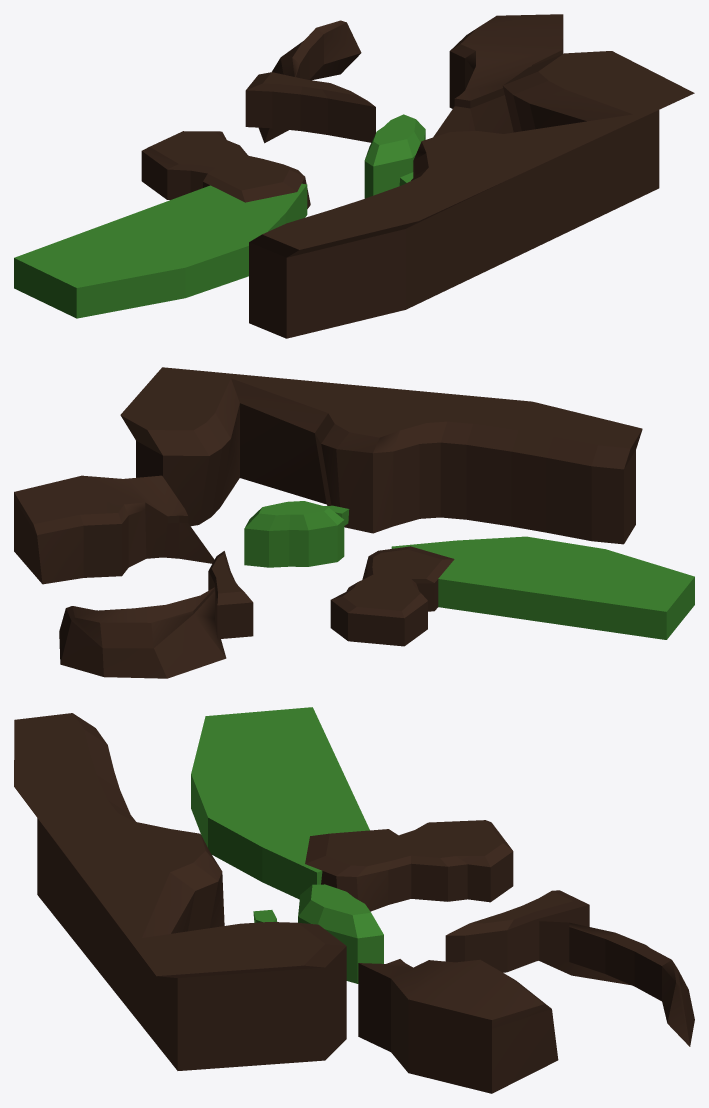
Rendered from Murs.fbx.
3 renders of one model, top to bottom at view 1: azimuth 30°, elevation 25°; view 2: azimuth 150°, elevation 25°; view 3: azimuth 270°, elevation 25°, orthographic. The views are drawn at different scales.
Parts seen in each view (by area): view 1: PolyShape__9_, PolyShape, PolyShape__7_, PolyShape__1_, PolyShape__2_, PolyShape__6_, PolyShape__3_; view 2: PolyShape__9_, PolyShape, PolyShape__7_, PolyShape__6_, PolyShape__1_, PolyShape__3_, PolyShape__2_; view 3: PolyShape__9_, PolyShape, PolyShape__7_, PolyShape__1_, PolyShape__6_, PolyShape__2_, PolyShape__3_.
Boxes of the visible parts, x1=… form: PolyShape__9_: x1=249, y1=51, x2=694, y2=338; PolyShape: x1=14, y1=183, x2=307, y2=318; PolyShape__7_: x1=433, y1=14, x2=563, y2=137; PolyShape__1_: x1=141, y1=131, x2=310, y2=208; PolyShape__2_: x1=245, y1=72, x2=375, y2=142; PolyShape__6_: x1=258, y1=20, x2=361, y2=143; PolyShape__3_: x1=364, y1=114, x2=425, y2=198; PolyShape__9_: x1=120, y1=367, x2=642, y2=544; PolyShape: x1=391, y1=536, x2=694, y2=639; PolyShape__7_: x1=14, y1=475, x2=214, y2=584; PolyShape__6_: x1=59, y1=587, x2=226, y2=678; PolyShape__1_: x1=330, y1=546, x2=454, y2=646; PolyShape__3_: x1=244, y1=501, x2=344, y2=567; PolyShape__2_: x1=208, y1=551, x2=253, y2=639; PolyShape__9_: x1=14, y1=713, x2=346, y2=1070; PolyShape: x1=191, y1=707, x2=369, y2=899; PolyShape__7_: x1=358, y1=959, x2=558, y2=1093; PolyShape__1_: x1=305, y1=820, x2=513, y2=911; PolyShape__6_: x1=539, y1=921, x2=694, y2=1046; PolyShape__2_: x1=445, y1=890, x2=589, y2=972; PolyShape__3_: x1=298, y1=884, x2=383, y2=983.
Bounding box in the file's own units: 21486 × 3975 × 17585.
